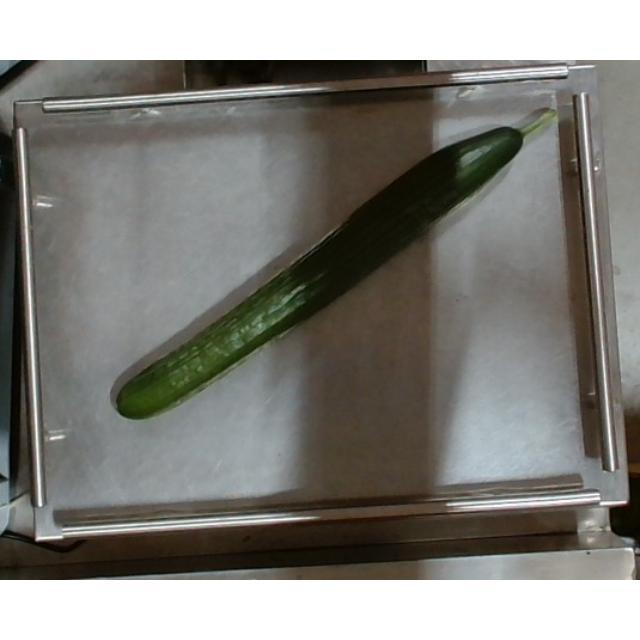cucumber: (110, 102, 562, 422)
